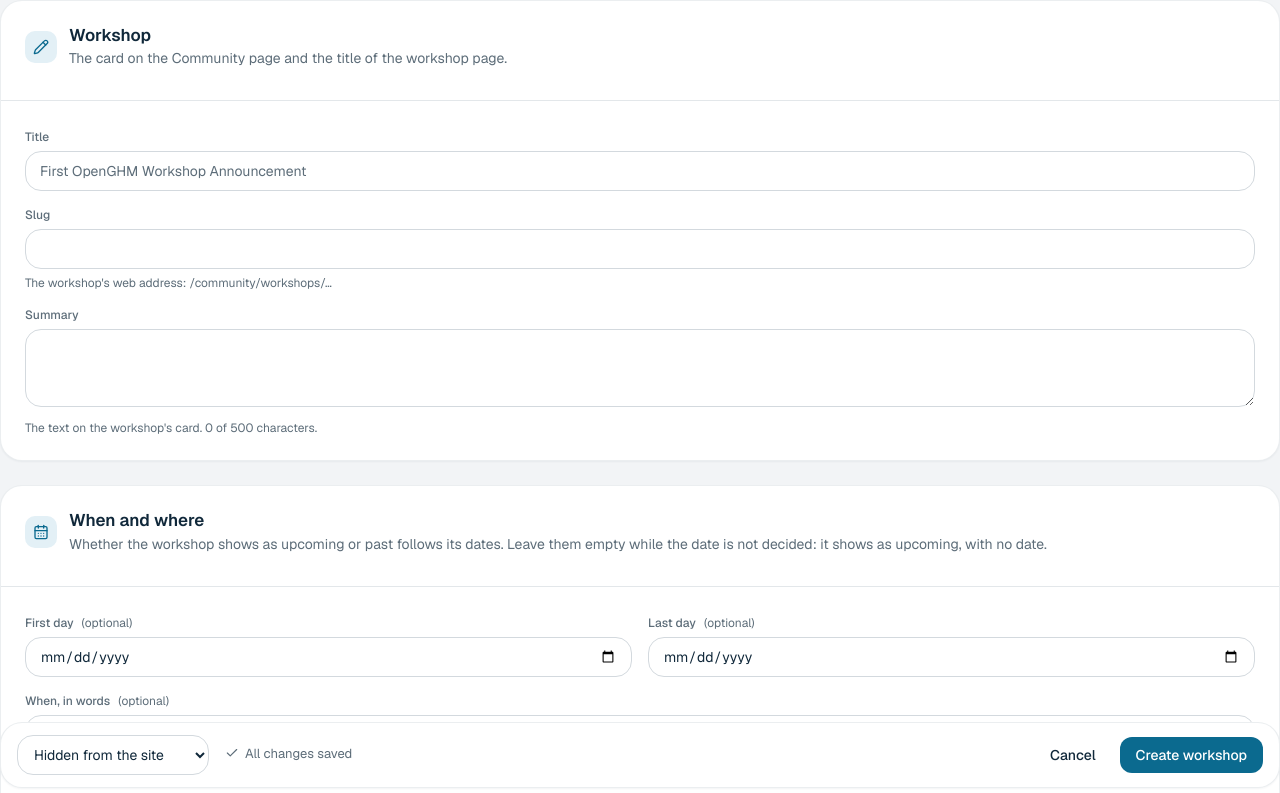
Test: a new workshop › marks what is missing beside the fields and sends nothing
Click the button "Create workshop": [1191, 755] box [1120, 737, 1263, 773]
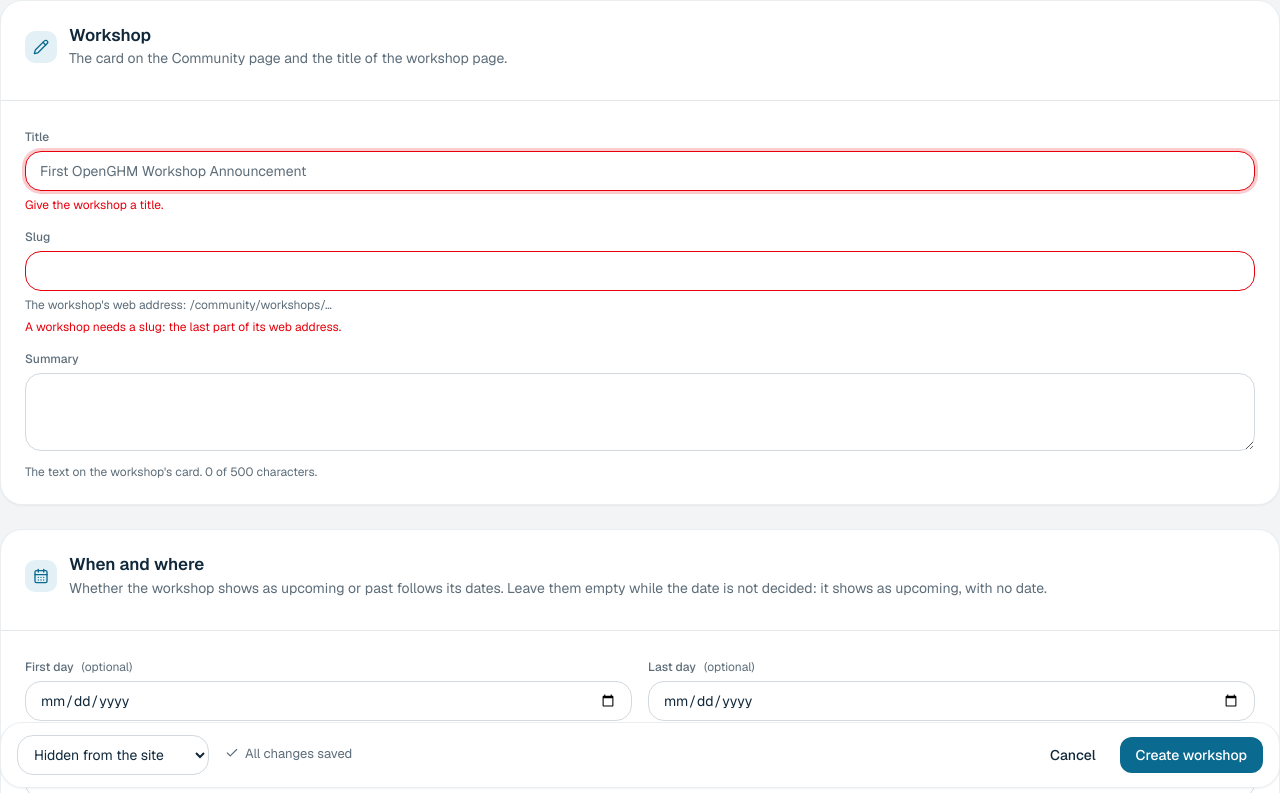
Now the text "Give the workshop a title." is shown, box [25, 197, 164, 213]
